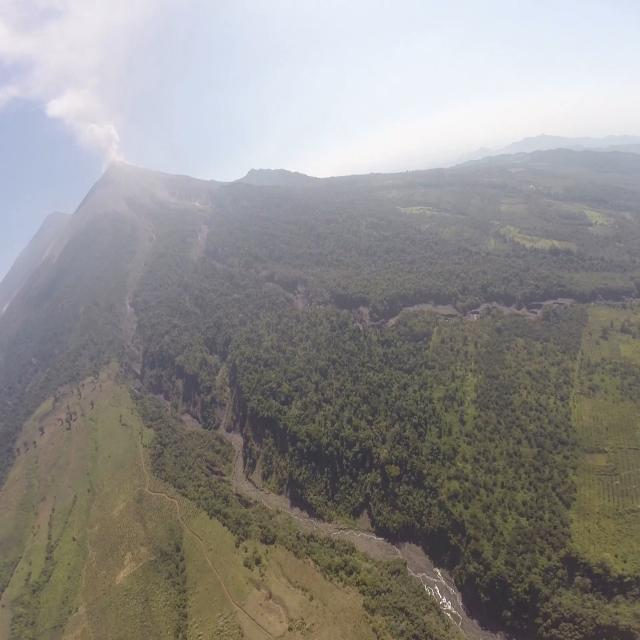Plume: (80, 119, 121, 164)
Summit: (96, 156, 134, 184)
